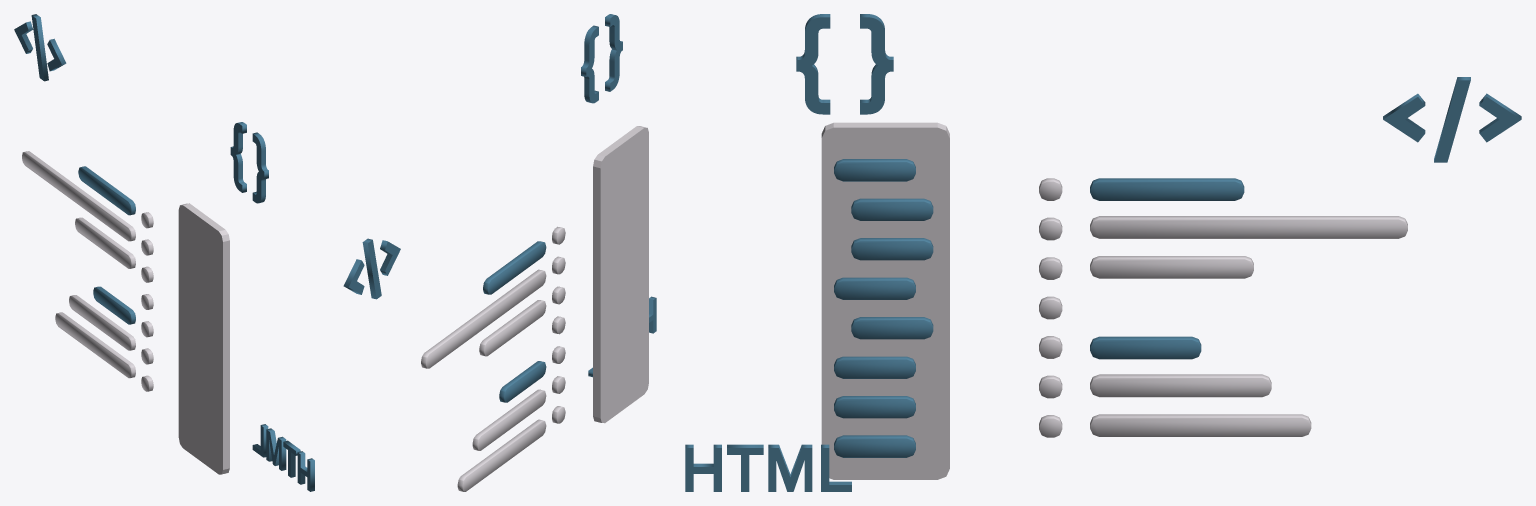
File: Techi.gltf
3 renders of one model, left to right at view 1: azimuth 30°, elevation 25°; view 2: azimuth 150°, elevation 25°; view 3: azimuth 270°, elevation 25°, orthographic. The views are drawn at different scales.
Parts seen in each view (by area): view 1: Text.002; view 2: Text.002; view 3: Text.002.
Boxes of the visible parts, x1=… form: Text.002: x1=14, y1=14, x2=314, y2=491; Text.002: x1=343, y1=14, x2=656, y2=491; Text.002: x1=685, y1=14, x2=1521, y2=491.
Bounding box in the file's own units: 0.0192 × 0.1364 × 0.2135.
